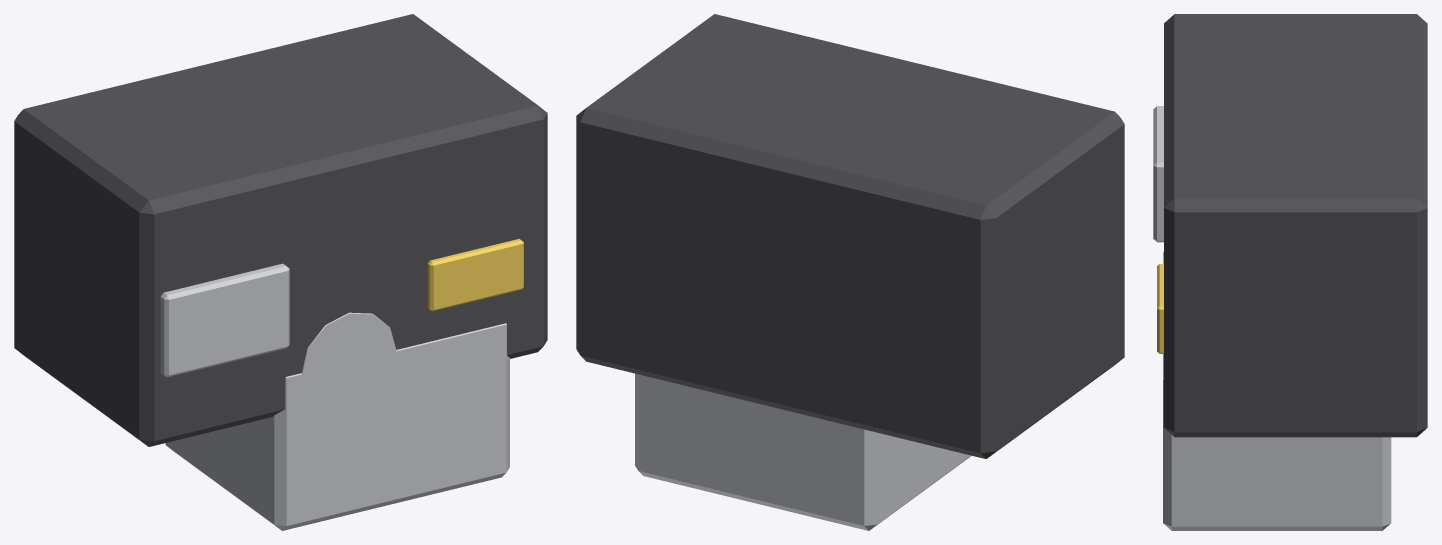
File: live-music-venue-and-festival-stage-haze-machine-f83afacc.glb
3 views of the same model, side by side, from view 1: azimuth 30°, elevation 25°; view 2: azimuth 150°, elevation 25°; view 3: azimuth 270°, elevation 25° (orthographic). The views are drawn at different scales.
Visible parts, largest first — view 1: haze-machine; view 2: haze-machine; view 3: haze-machine.
Boxes of the visible parts, x1,y1,x2,y2 form: haze-machine: (14,14,547,530); haze-machine: (576,14,1124,530); haze-machine: (1153,14,1427,530).
Size of the model in its own units: 0.52 by 0.44 by 0.312.
